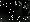person: (23, 2, 30, 17), (17, 3, 23, 14)
